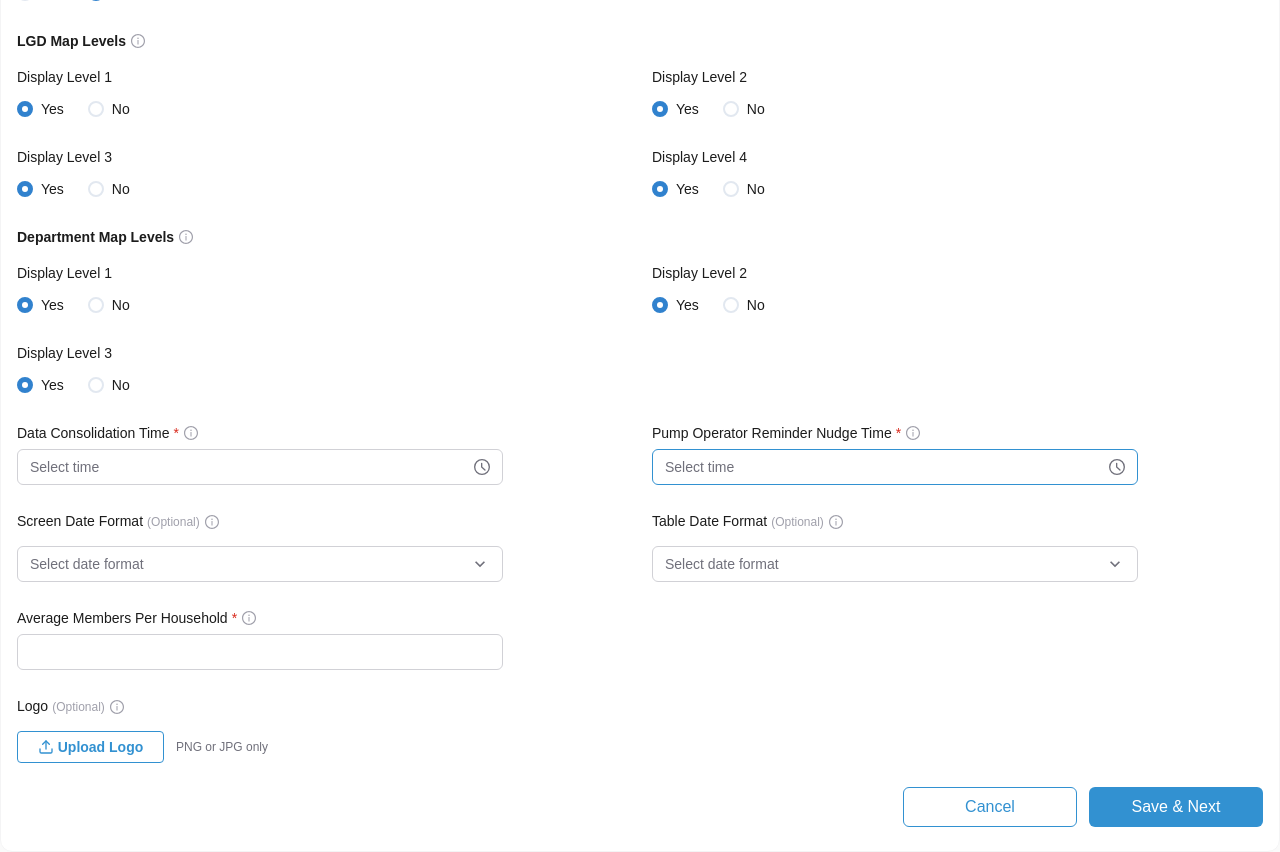
Test: ConfigurationPage › clears inline error on field change
This screenshot has width=1280, height=852.
(page scrolled)
Click the button "Save & Next": (1176, 807) [1089,787,1263,827]
(page scrolled)
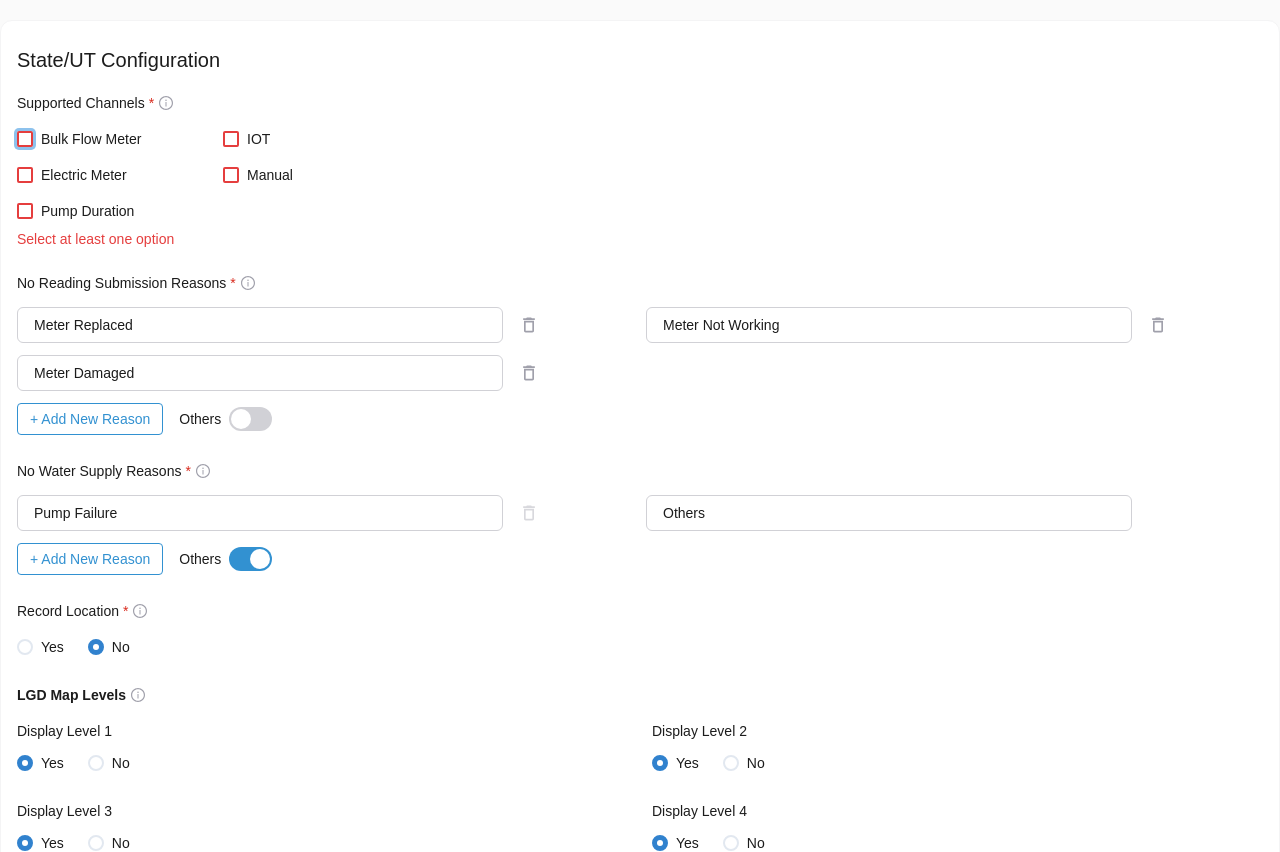
Expected: the text "Select at least one option" is shown, [17,231,174,247]
Click the text "IOT": (259, 139) [247,127,270,151]
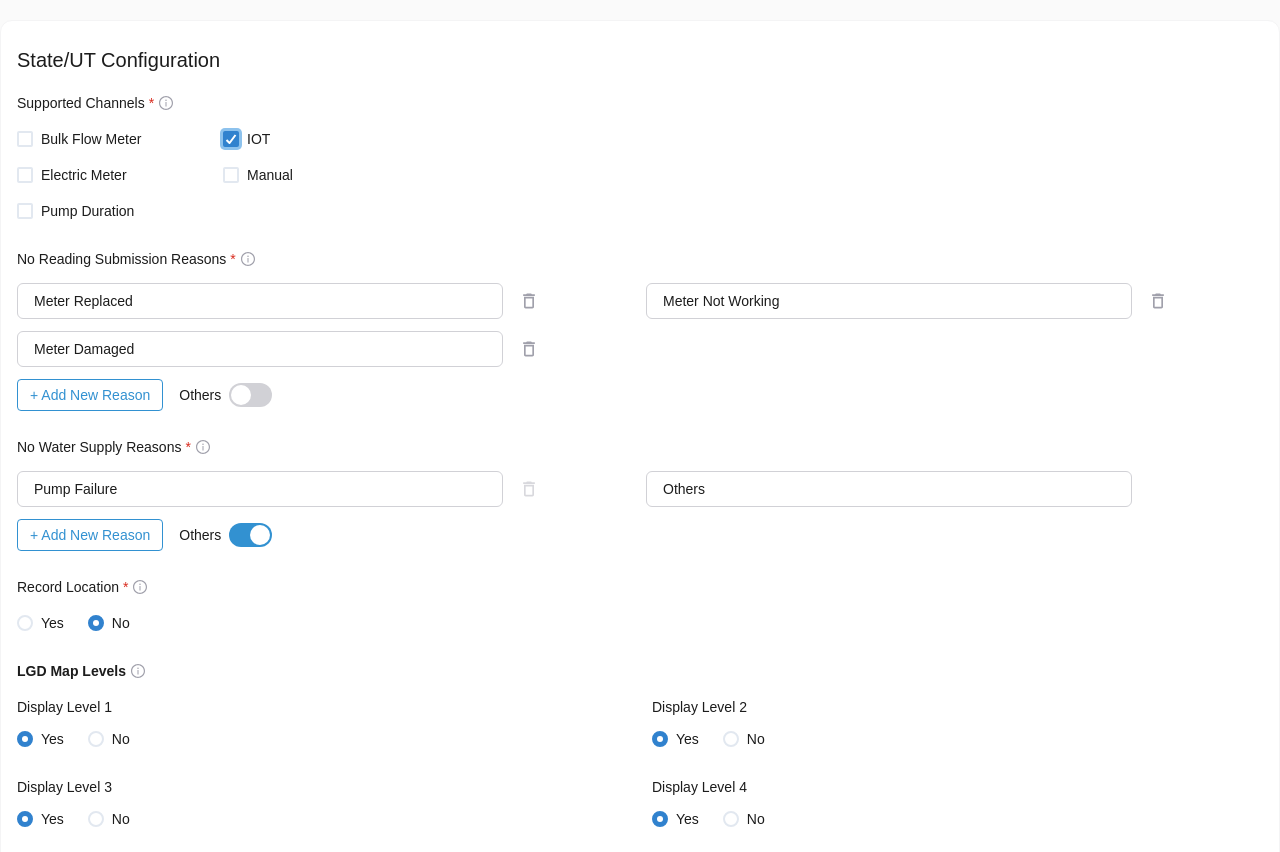
Expected: the text "Select at least one option" is gone
